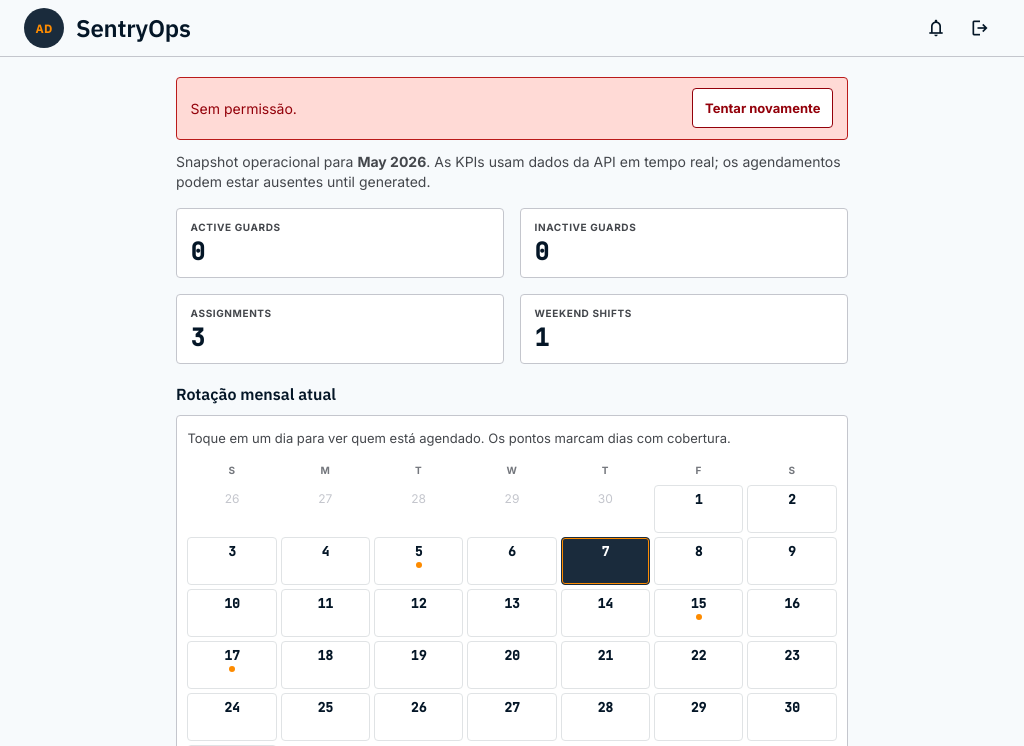
Test: WelcomePage (dashboard) › shows guards error banner and retry refetches
Expected: the message shows "Sem permissão", [191,100,297,117]
Click the button "Tentar novamente".
click(763, 108)  # box [692,88,833,128]
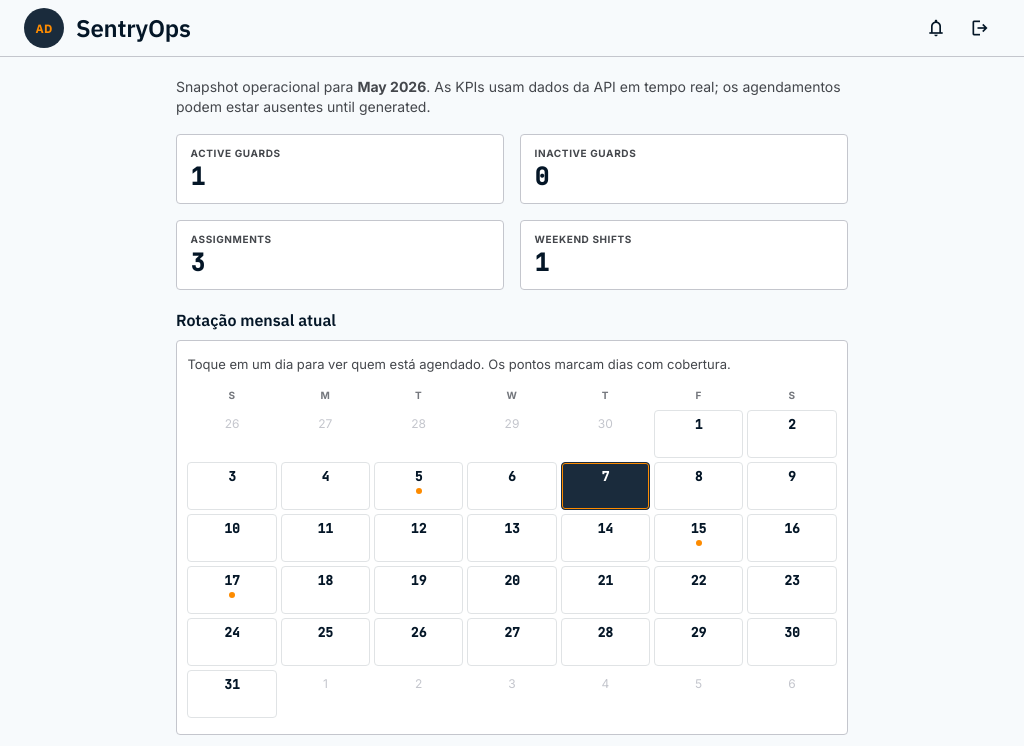
Now the message "Sem permissão. Tentar novamente" is gone
